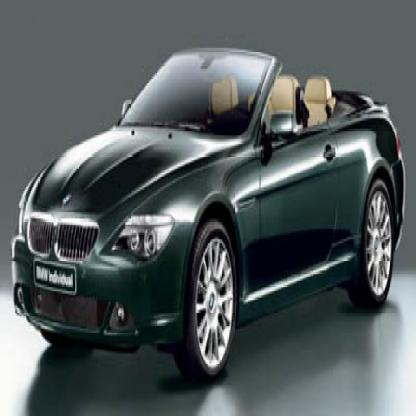Vehicle: (10, 47, 409, 378)
